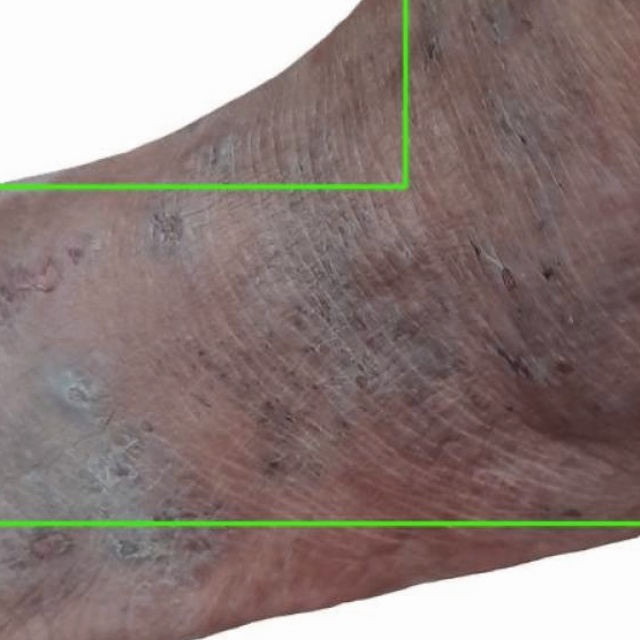Contact Dermatitis: (0, 0, 406, 188), (0, 523, 639, 639)
